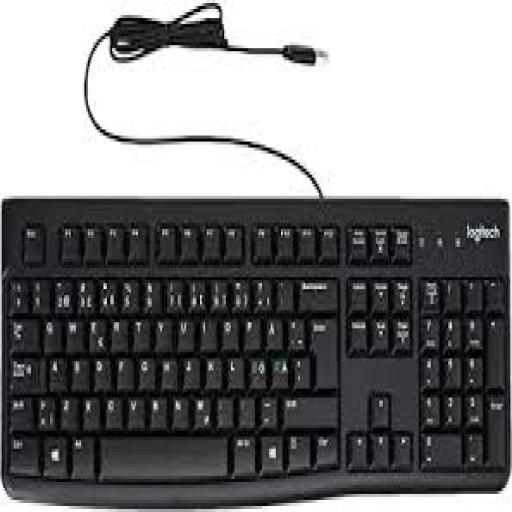KEYBOARD-2: (0, 202, 510, 503)
